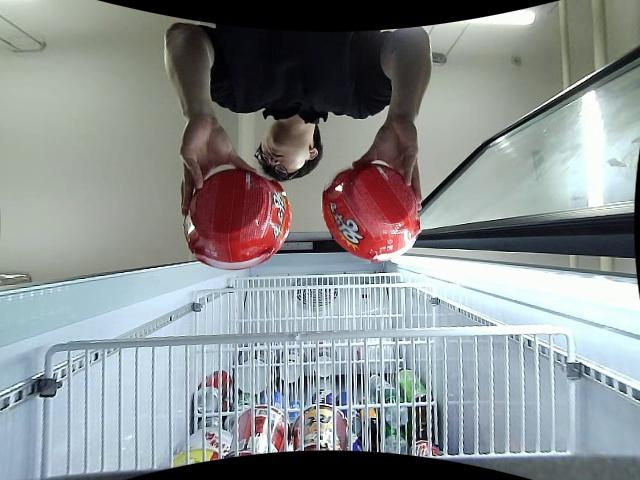00_hand: (181, 117, 258, 217), (352, 121, 422, 204)
10_wangTtukkeong: (185, 167, 293, 271), (322, 163, 419, 263)
